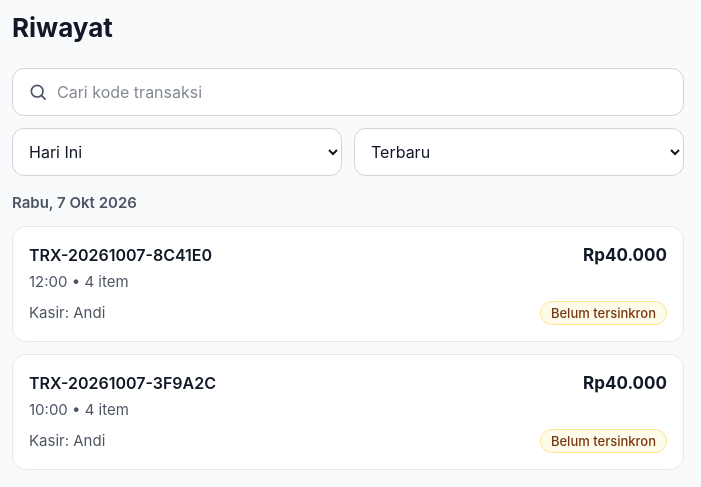
HistoryList — date filter and order › sorts oldest first when chosen
Check: the link that starts with "TRX-20261007-8C41E0" is shown, box [12,226,684,342]
Select "Terlama" in the dropdown named "Urutan". click: (519, 152)
box: [354,128,684,176]
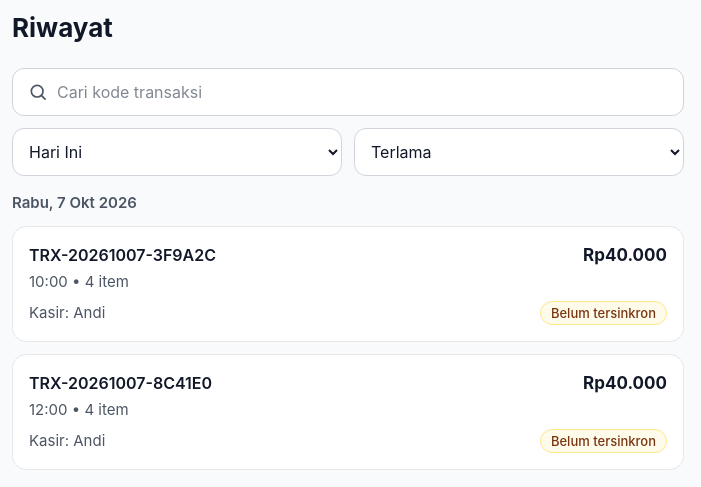
Check: the link that starts with "TRX-20261007-3F9A2C" is shown, box [12,226,684,342]
